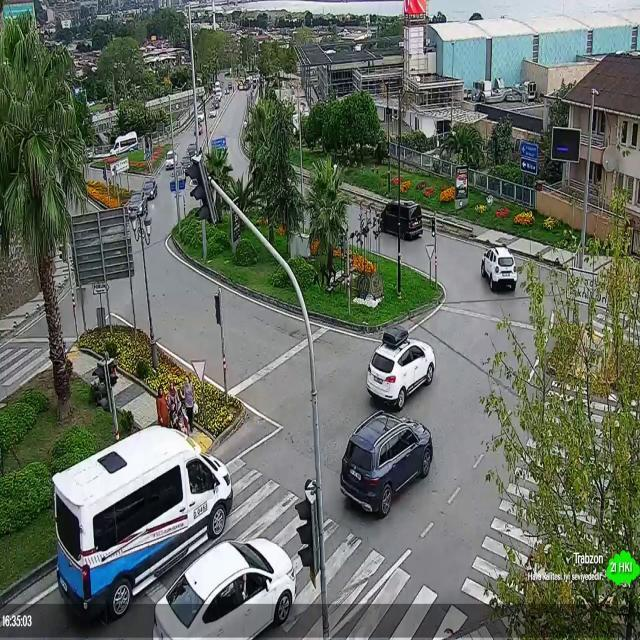car: (154, 539, 295, 640), (340, 411, 434, 517), (366, 325, 435, 409), (481, 246, 518, 290), (381, 201, 422, 239), (126, 191, 148, 218), (142, 180, 158, 200), (165, 150, 176, 169), (198, 112, 205, 122)
pedestrian: (166, 382, 189, 433), (182, 379, 195, 426), (156, 389, 169, 427)
traffic-lights: (295, 480, 320, 583), (91, 351, 119, 439), (185, 156, 215, 223), (214, 288, 228, 399), (431, 216, 436, 237)
